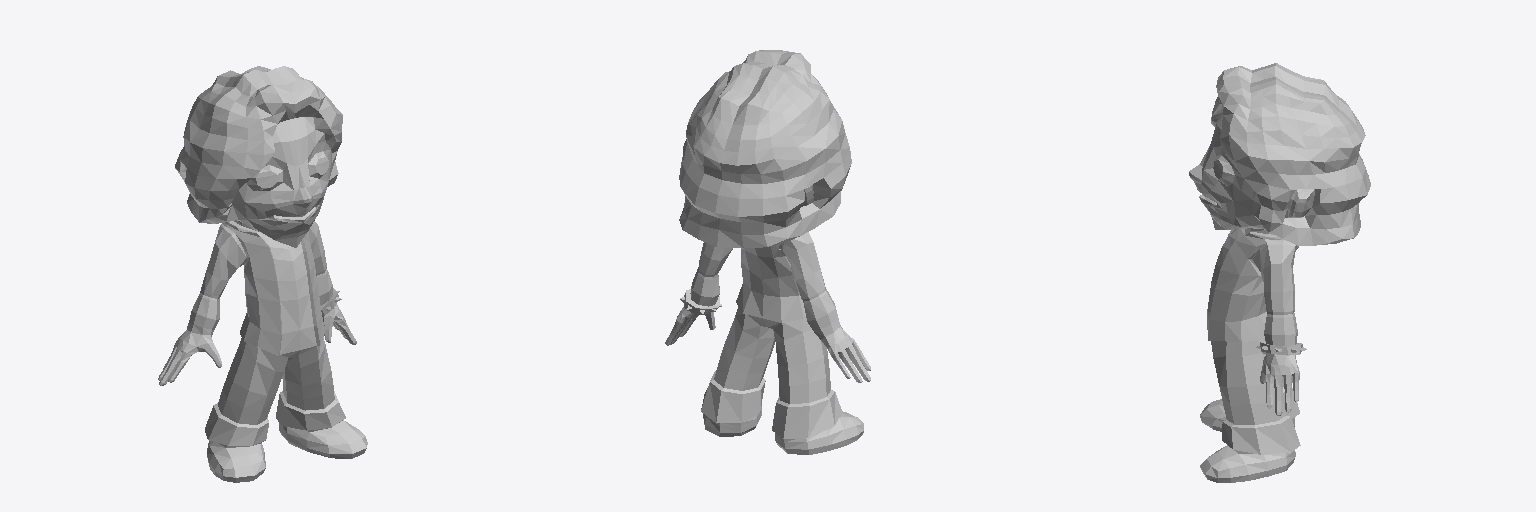
The model's file is rockero_rigging_000038.obj.
3 renders of one model, left to right at view 1: azimuth 30°, elevation 25°; view 2: azimuth 150°, elevation 25°; view 3: azimuth 270°, elevation 25°, orthographic.
Visible parts, largest first — view 1: Cylinder.001; view 2: Cylinder.001; view 3: Cylinder.001.
Part boxes in pixels (bbox=[...]): Cylinder.001: bbox=[158, 66, 367, 482]; Cylinder.001: bbox=[665, 50, 870, 454]; Cylinder.001: bbox=[1189, 63, 1370, 482].
Bounding box in the file's own units: 2.65 × 4.8 × 2.11.